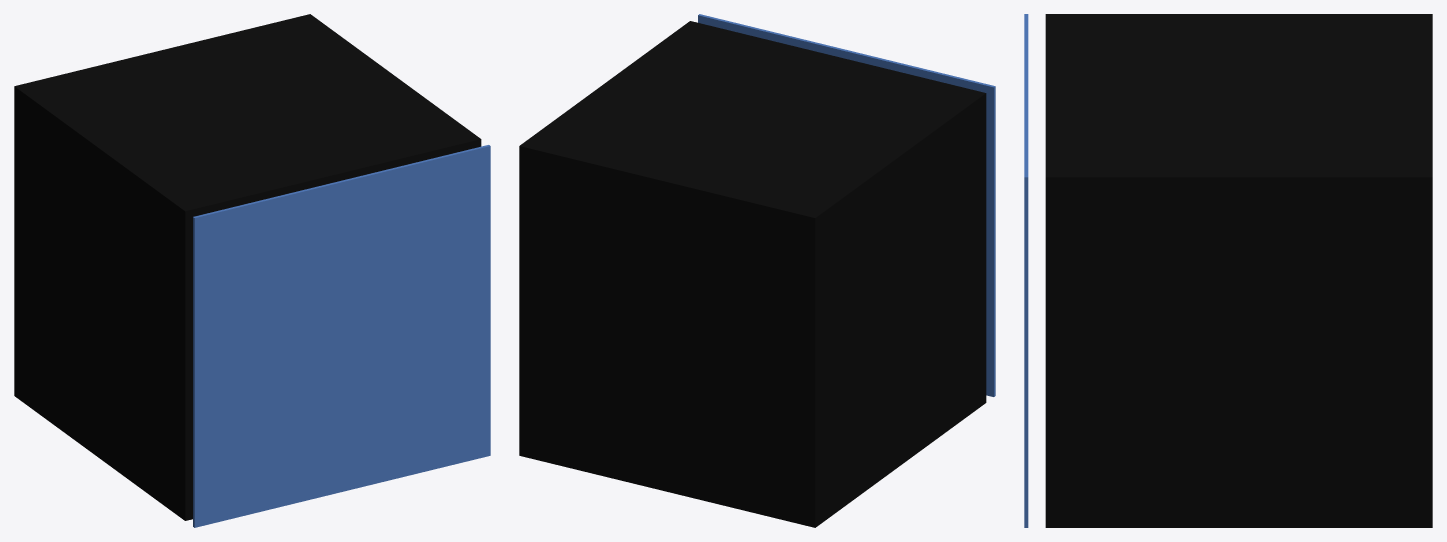
3 renders of one model, left to right at view 1: azimuth 30°, elevation 25°; view 2: azimuth 150°, elevation 25°; view 3: azimuth 270°, elevation 25°, orthographic. The views are drawn at different scales.
Parts seen in each view (by area): view 1: Cube, blue-3; view 2: Cube, blue-3; view 3: Cube, blue-3.
Part boxes in pixels (x1,y1,x2,y2): Cube: (14, 14, 481, 520); blue-3: (193, 145, 490, 527); Cube: (519, 21, 986, 527); blue-3: (698, 14, 995, 396); Cube: (1045, 14, 1432, 527); blue-3: (1024, 14, 1028, 527).
Size of the model in its own units: 2 by 2 by 2.11.
